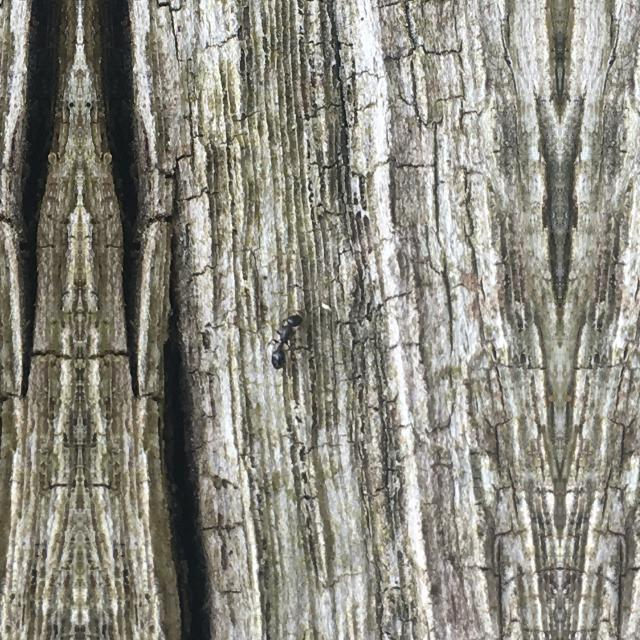Temnothorax: (261, 296, 313, 380)
